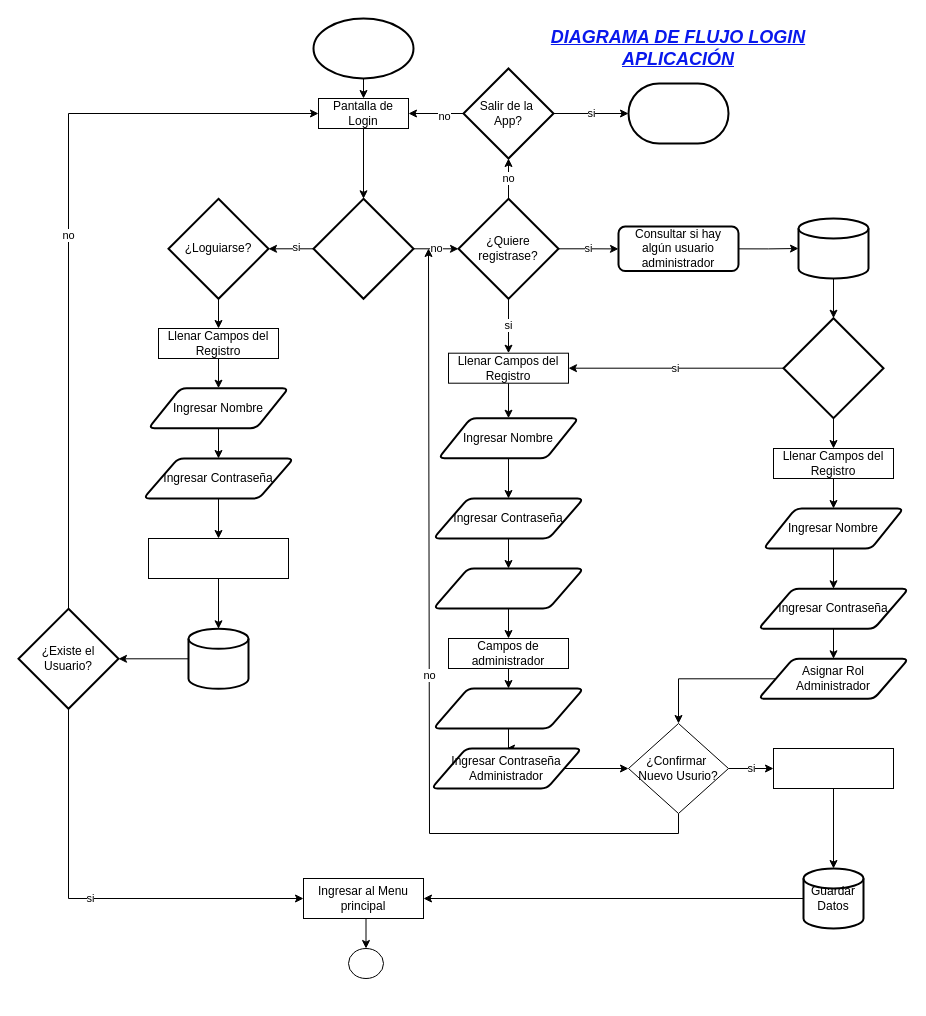
The diagram is 926 pixels wide and 1016 high, and some of its shapes have lost their labels. The centre of each missing label's shape, as x and y in pixels:
Asignar un Rol: the point at 508,588
Consultar Tabla Usuario: the point at 218,658
Consultar tabla Usuarios: the point at 833,248
Consultar un usuario con la contraseña ingresada: the point at 218,558
Hay usuario Administrador?: the point at 833,368
Ingresar a la Aplicación: the point at 363,48
Ingresar Nombre Administrador: the point at 508,708
Menu principal: the point at 366,963
Registrar Nuevo Usuario: the point at 833,768
Salir: the point at 678,113
¿Tiene Cuenta?: the point at 363,248
